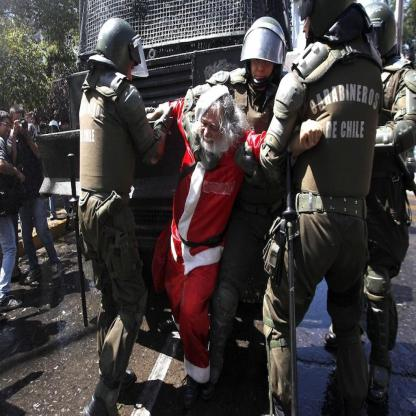face: (251, 44, 275, 88), (201, 109, 224, 148), (303, 9, 316, 49), (120, 51, 135, 84), (1, 118, 12, 140), (13, 113, 24, 133), (63, 122, 70, 133)
